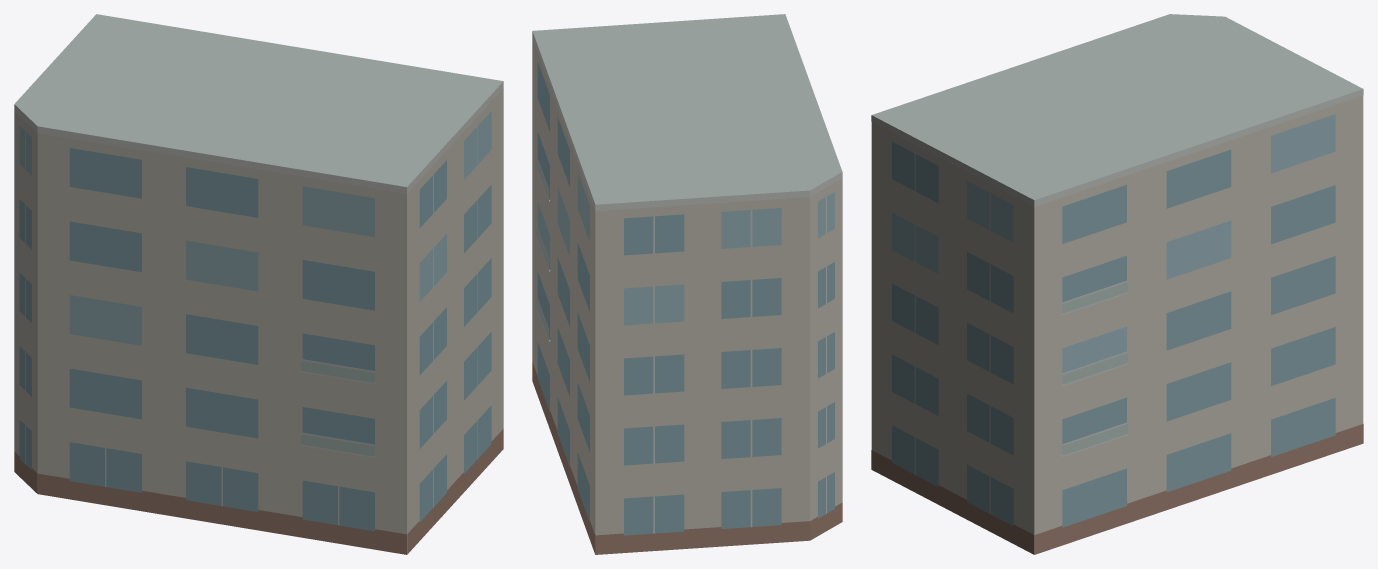
Rendered from survey-upis-32875440.glb.
3 renders of one model, left to right at view 1: azimuth 30°, elevation 25°; view 2: azimuth 150°, elevation 25°; view 3: azimuth 270°, elevation 25°, orthographic. The views are drawn at different scales.
Visible parts, largest first — view 1: survey-upis-32875440.tmp; view 2: survey-upis-32875440.tmp; view 3: survey-upis-32875440.tmp.
Part boxes in pixels (x1,y1,x2,y2): survey-upis-32875440.tmp: (14, 14, 503, 554); survey-upis-32875440.tmp: (532, 14, 842, 554); survey-upis-32875440.tmp: (871, 14, 1363, 554).
Size of the model in its own units: 14.99 by 13.3 by 16.73.
